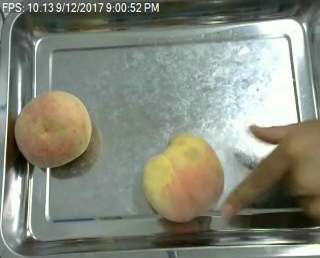Peach: (142, 133, 224, 223), (14, 88, 93, 168)
